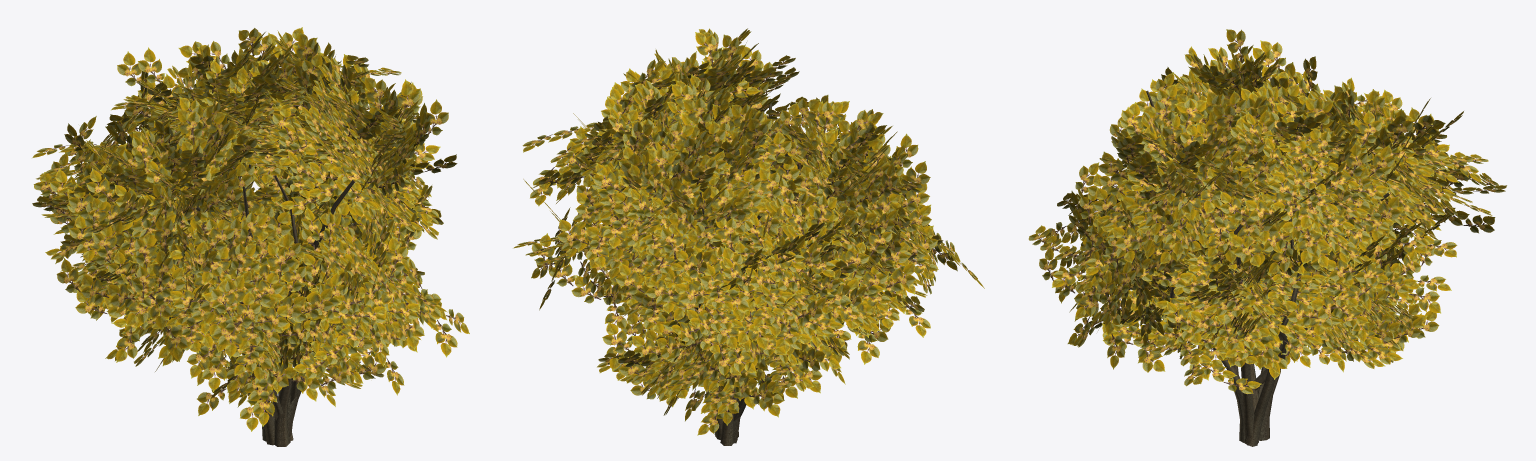
The model's file is Hamamelis_Virginiana_Autumn_Adult.glb.
3 renders of one model, left to right at view 1: azimuth 30°, elevation 25°; view 2: azimuth 150°, elevation 25°; view 3: azimuth 270°, elevation 25°, orthographic. The views are drawn at different scales.
Visible parts, largest first — view 1: Hamamelis_Virginiana_Autumn_Adult__LOD3; view 2: Hamamelis_Virginiana_Autumn_Adult__LOD3; view 3: Hamamelis_Virginiana_Autumn_Adult__LOD3.
Part boxes in pixels (left/top/right/bottom): Hamamelis_Virginiana_Autumn_Adult__LOD3: left=32, top=27, right=469, bottom=446; Hamamelis_Virginiana_Autumn_Adult__LOD3: left=513, top=28, right=984, bottom=445; Hamamelis_Virginiana_Autumn_Adult__LOD3: left=1028, top=29, right=1506, bottom=446.
Bounding box in the file's own units: 4.23 × 3.89 × 4.71.
Materials: 2 (2 with a texture image).
